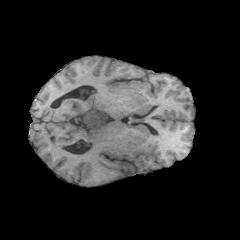glioma: (78, 103, 148, 141)
